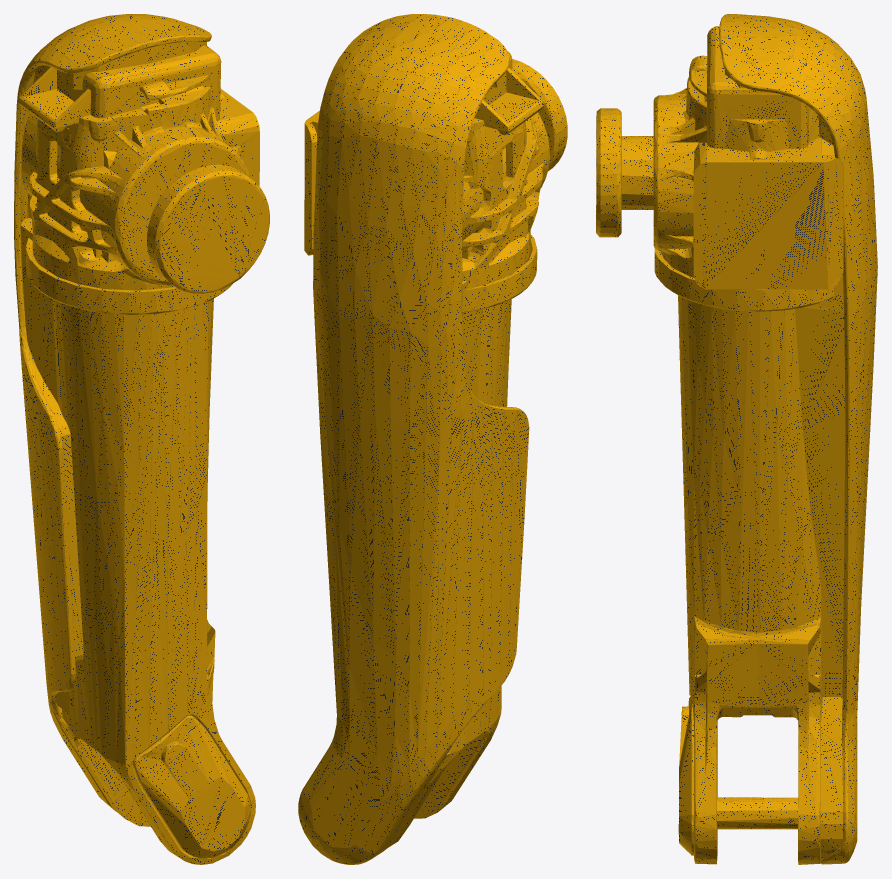
File: front_left_upper_leg.obj
The picture shows the model from 3 angles, left to right: view 1: azimuth 30°, elevation 25°; view 2: azimuth 150°, elevation 25°; view 3: azimuth 270°, elevation 25°; orthographic projection. The views are drawn at different scales.
Visible parts, largest first — view 1: front_left_upper_leg; view 2: front_left_upper_leg; view 3: front_left_upper_leg.
Part boxes in pixels (x1,y1,x2,y2): front_left_upper_leg: (14, 14, 269, 864); front_left_upper_leg: (298, 14, 567, 864); front_left_upper_leg: (596, 14, 877, 864).
Size of the model in its own units: 0.1013 by 0.4185 by 0.1323.
